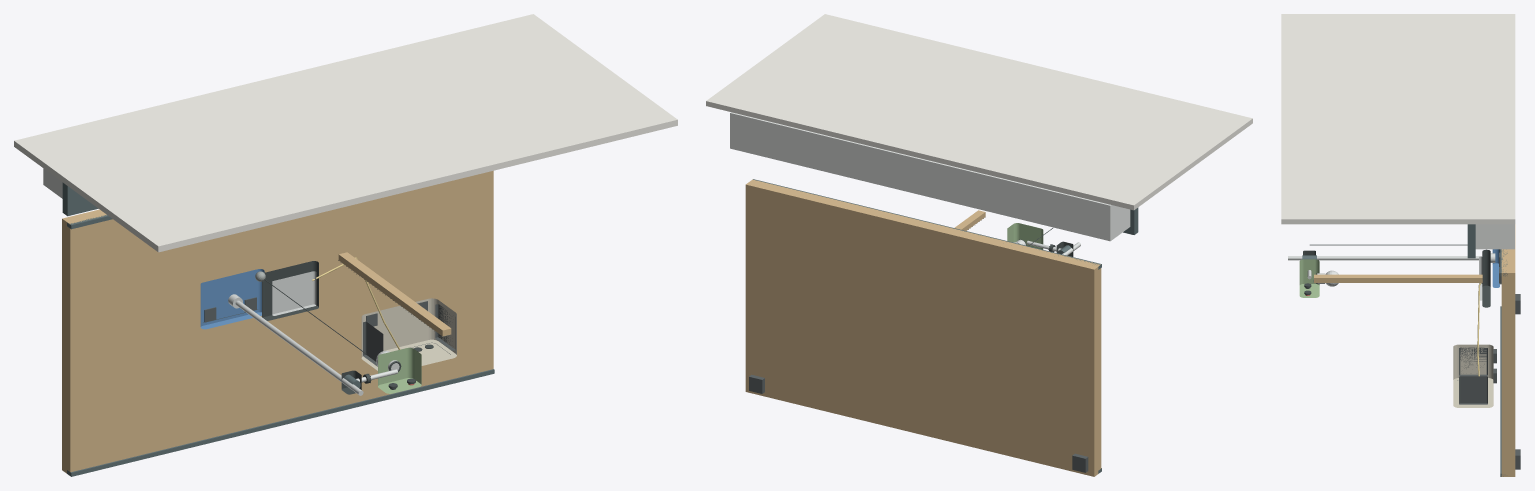
Rendered from rp03-free-fall-impact.glb.
3 renders of one model, left to right at view 1: azimuth 30°, elevation 25°; view 2: azimuth 150°, elevation 25°; view 3: azimuth 270°, elevation 25°, orthographic. The views are drawn at different scales.
Visible parts, largest first — view 1: Laboratory background wall, Laboratory bench laminate, Data logger cream case, Free-fall stand blue base, Laboratory bench dark edge, Vertical metre rule, Impact sensor plate, Mechanical release green housing, Impact pressure pad, Free-fall stand vertical rod; view 2: Laboratory bench laminate, Laboratory background wall, Laboratory background cabinet carcass, Mechanical release green housing; view 3: Laboratory background wall, Laboratory bench laminate, Data logger cream case, Vertical metre rule, Laboratory background cabinet carcass, Free-fall stand vertical rod, Data logger right bumper, Mechanical release green housing, Impact pressure pad, Data logger left bumper, Laboratory bench dark edge, Plumb line_0 (+1 smaller).
Boxes of the visible parts, x1,y1,x2,y2 form: Laboratory background wall: (14, 14, 677, 252); Laboratory bench laminate: (62, 170, 493, 473); Data logger cream case: (361, 298, 456, 370); Free-fall stand blue base: (200, 269, 264, 329); Laboratory bench dark edge: (67, 369, 494, 476); Vertical metre rule: (338, 252, 451, 336); Impact sensor plate: (272, 271, 316, 315); Mechanical release green housing: (378, 347, 421, 393); Impact pressure pad: (262, 261, 318, 320); Free-fall stand vertical rod: (235, 300, 363, 395); Laboratory bench laminate: (745, 179, 1101, 476); Laboratory background wall: (706, 14, 1252, 210); Laboratory background cabinet carcass: (730, 112, 1130, 241); Mechanical release green housing: (1007, 223, 1043, 249); Laboratory background wall: (1281, 14, 1515, 224); Laboratory bench laminate: (1501, 224, 1515, 476); Data logger cream case: (1453, 344, 1493, 407); Vertical metre rule: (1314, 274, 1482, 282); Laboratory background cabinet carcass: (1475, 224, 1514, 249); Free-fall stand vertical rod: (1288, 256, 1482, 260); Data logger right bumper: (1459, 376, 1487, 404); Mechanical release green housing: (1299, 259, 1319, 297); Impact pressure pad: (1482, 249, 1490, 307); Data logger left bumper: (1459, 347, 1487, 376); Laboratory bench dark edge: (1500, 306, 1503, 476); Plumb line_0: (1310, 244, 1467, 245).
Bounding box in the file's own units: 10.8 × 6.78 × 5.32.
